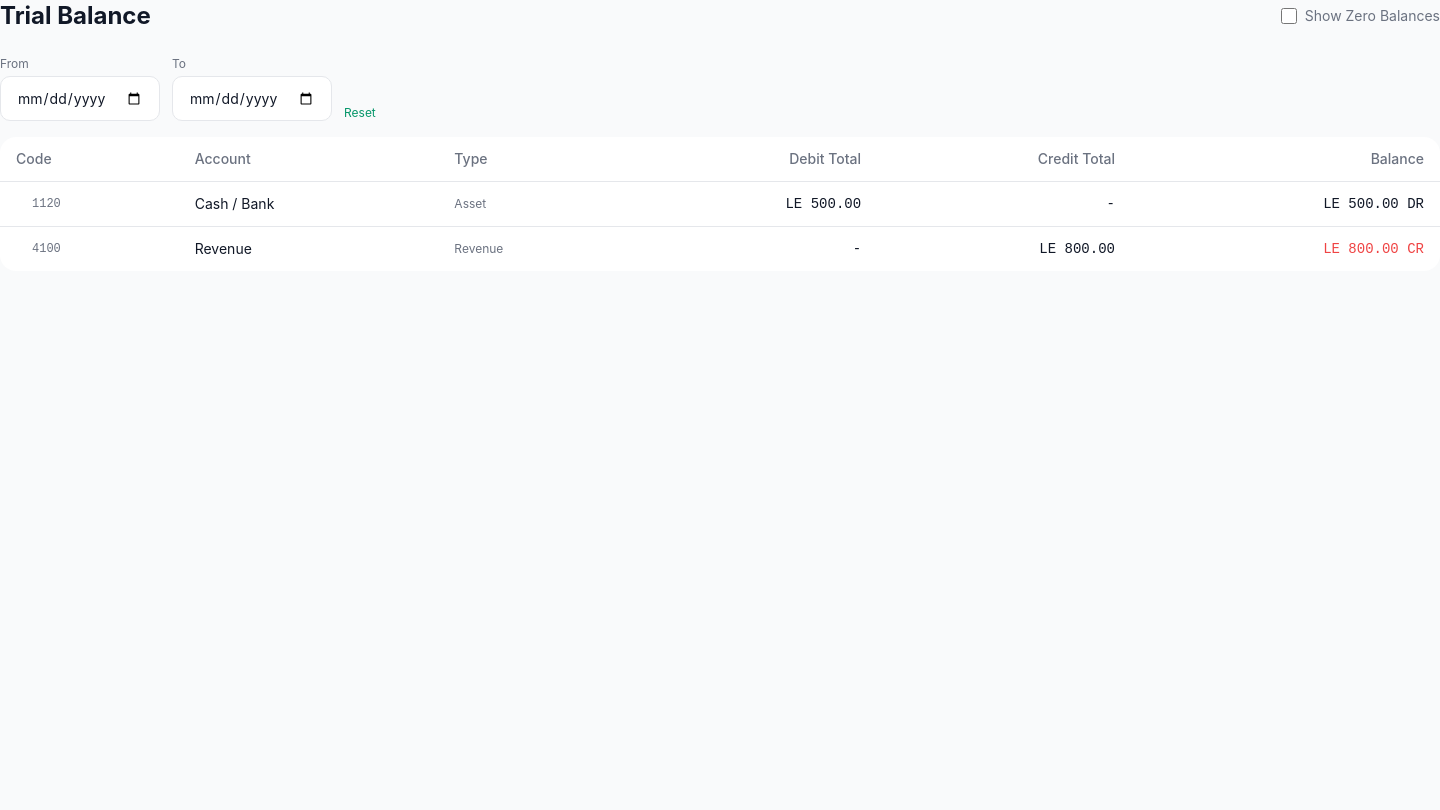
Scenario: OrgFinancialReportsPage — org-scoped accounting reports › opens the org-scoped account ledger modal from a Trial Balance row
Click the text "Cash / Bank".
click(234, 204)  # box [179,182,438,226]
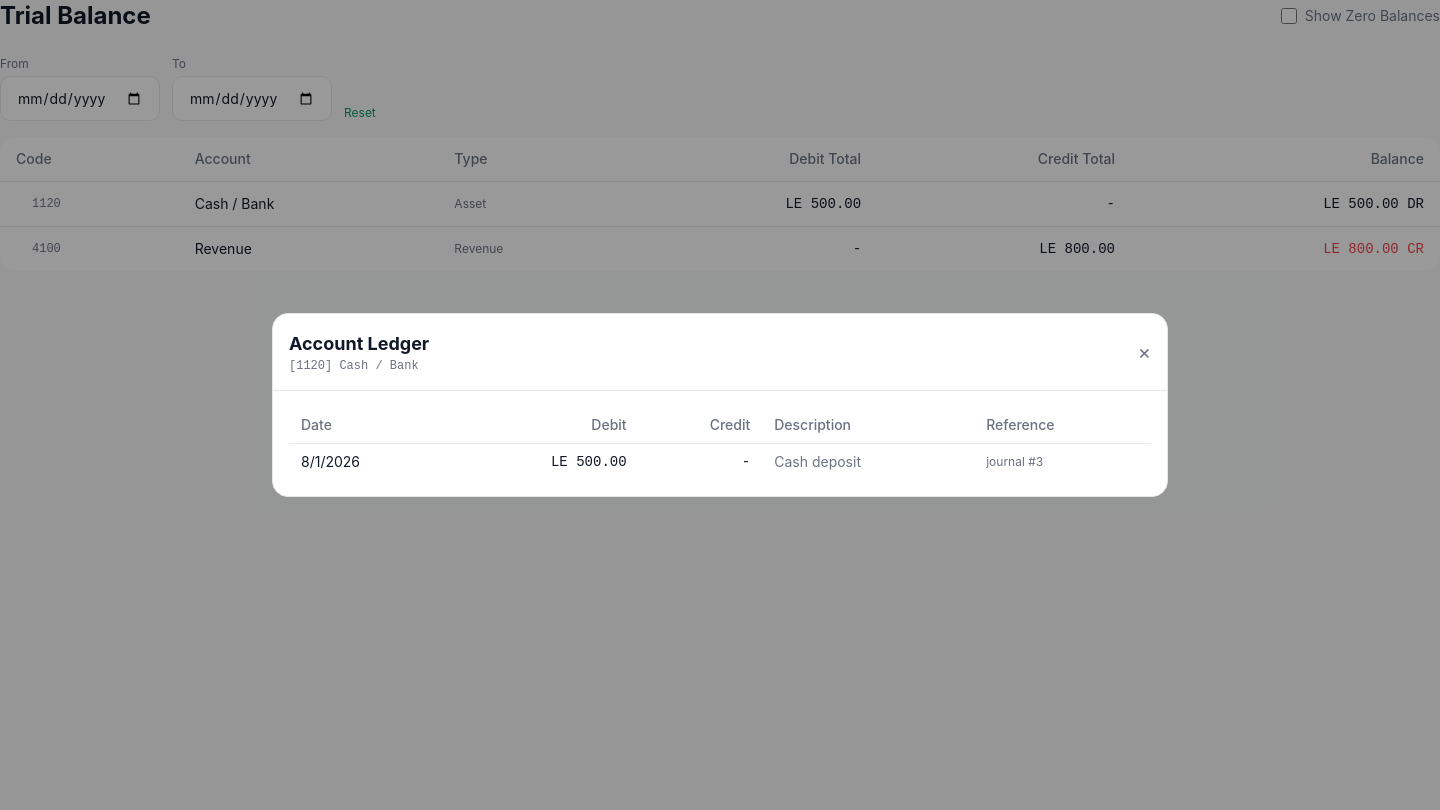
Check: the heading "Account Ledger" is shown, box [289,330,429,358]
Check: the text "Cash deposit" is shown, box [762,444,974,480]
